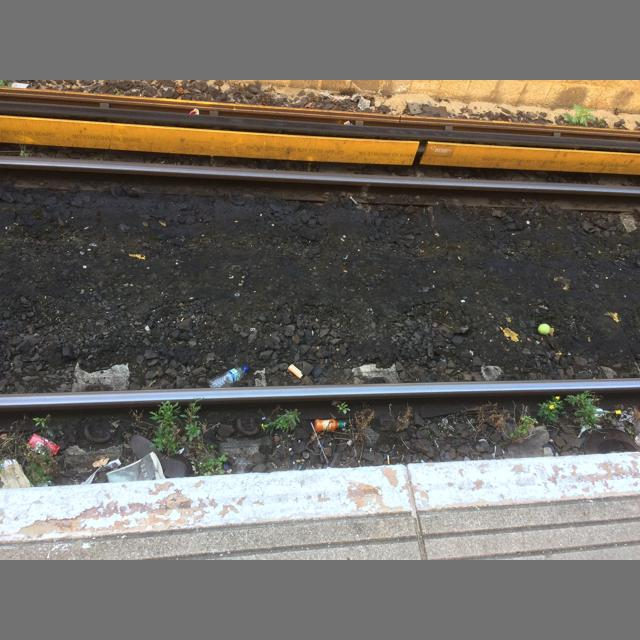litter: (131, 434, 193, 478), (106, 451, 166, 483), (80, 458, 122, 485), (208, 365, 249, 388), (0, 461, 31, 489), (25, 433, 60, 455), (311, 423, 328, 463), (314, 419, 345, 432), (351, 94, 371, 110), (593, 408, 621, 418), (288, 364, 303, 378), (1, 459, 16, 470), (538, 324, 550, 335), (188, 108, 199, 115), (432, 322, 438, 328), (344, 121, 353, 125), (298, 465, 302, 470), (319, 445, 324, 449), (387, 455, 389, 464), (251, 328, 255, 331)
